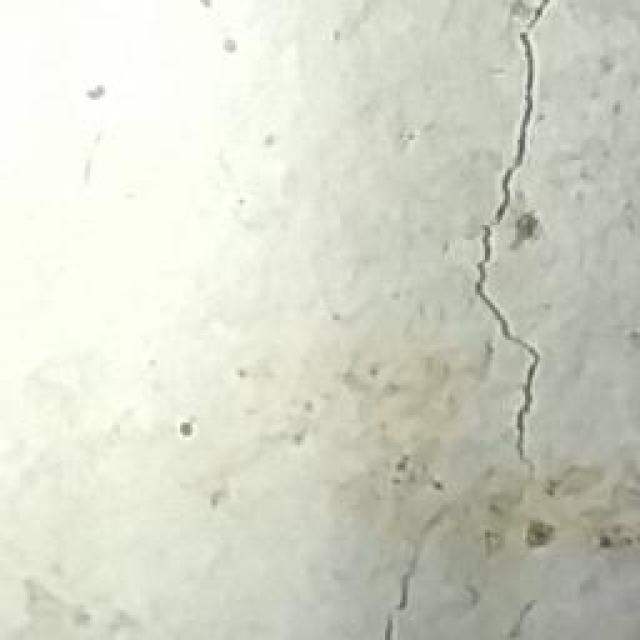Longitudinal: (374, 7, 563, 636)
